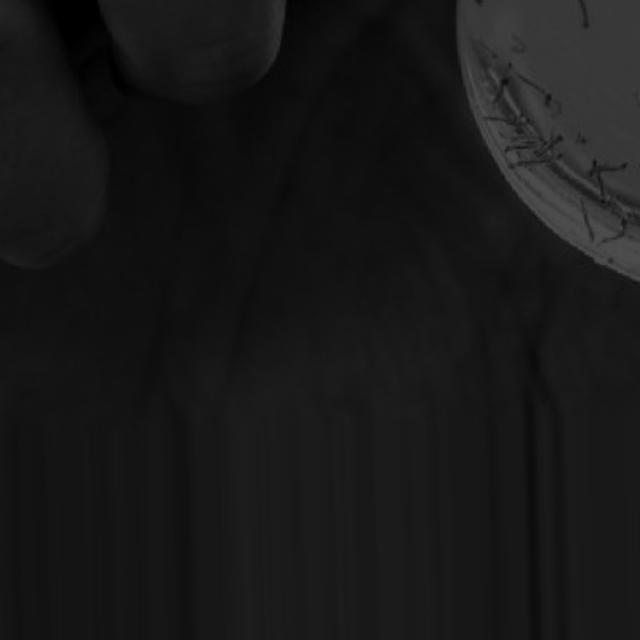larvas: (518, 67, 554, 106), (601, 218, 628, 244), (581, 199, 595, 242), (588, 162, 628, 177), (513, 155, 554, 168), (592, 159, 605, 198), (506, 142, 543, 154), (493, 79, 508, 107), (481, 114, 512, 126), (513, 31, 526, 56), (580, 0, 590, 28), (513, 109, 524, 133), (479, 47, 499, 60), (550, 134, 562, 150)
